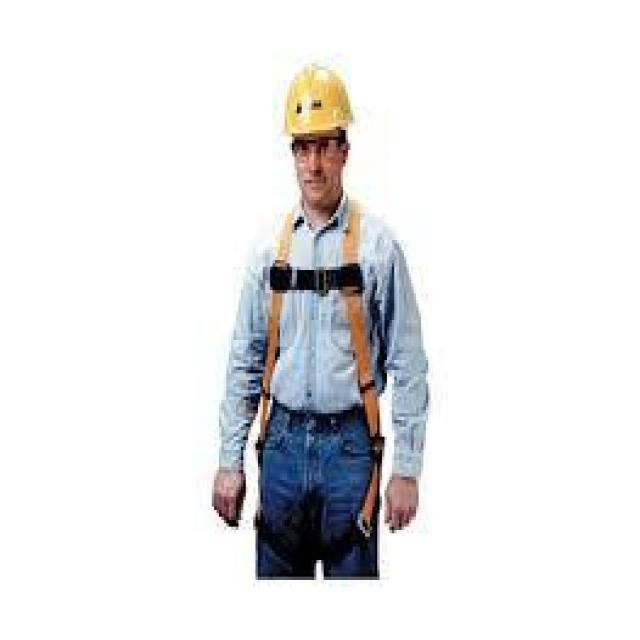Arnes_seguridad: (256, 203, 384, 570)
